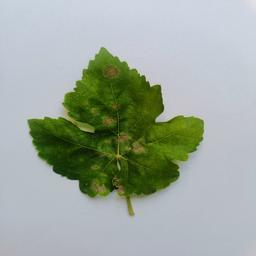Powdery-Mildew: (172, 116, 201, 154), (118, 128, 152, 154), (44, 118, 74, 141), (88, 164, 111, 193), (73, 75, 96, 100), (90, 106, 113, 129), (101, 59, 122, 78), (96, 139, 112, 161), (108, 99, 121, 111)
